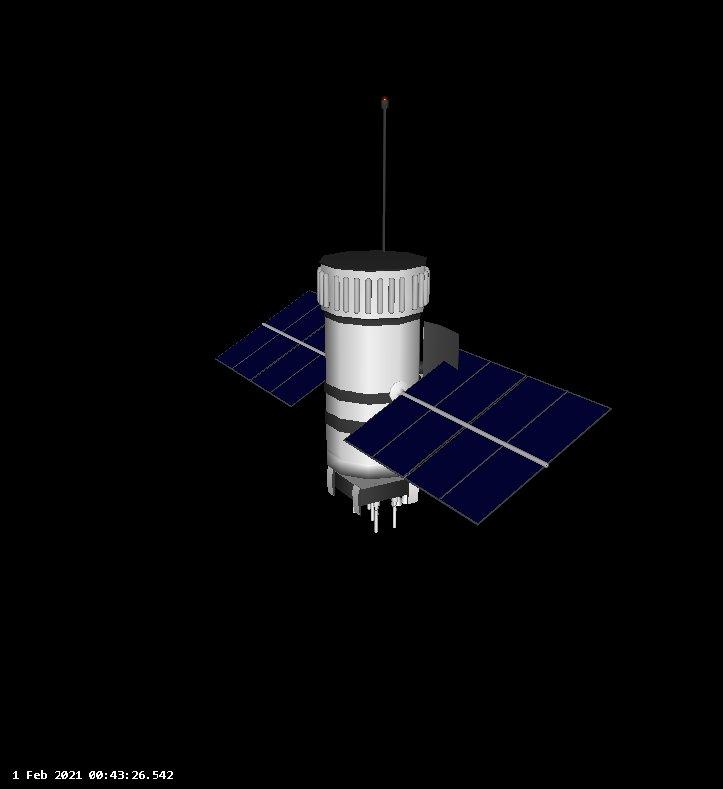antenna: (378, 94, 391, 255)
body: (315, 247, 434, 481)
solar: (340, 346, 615, 529), (213, 287, 353, 409)
